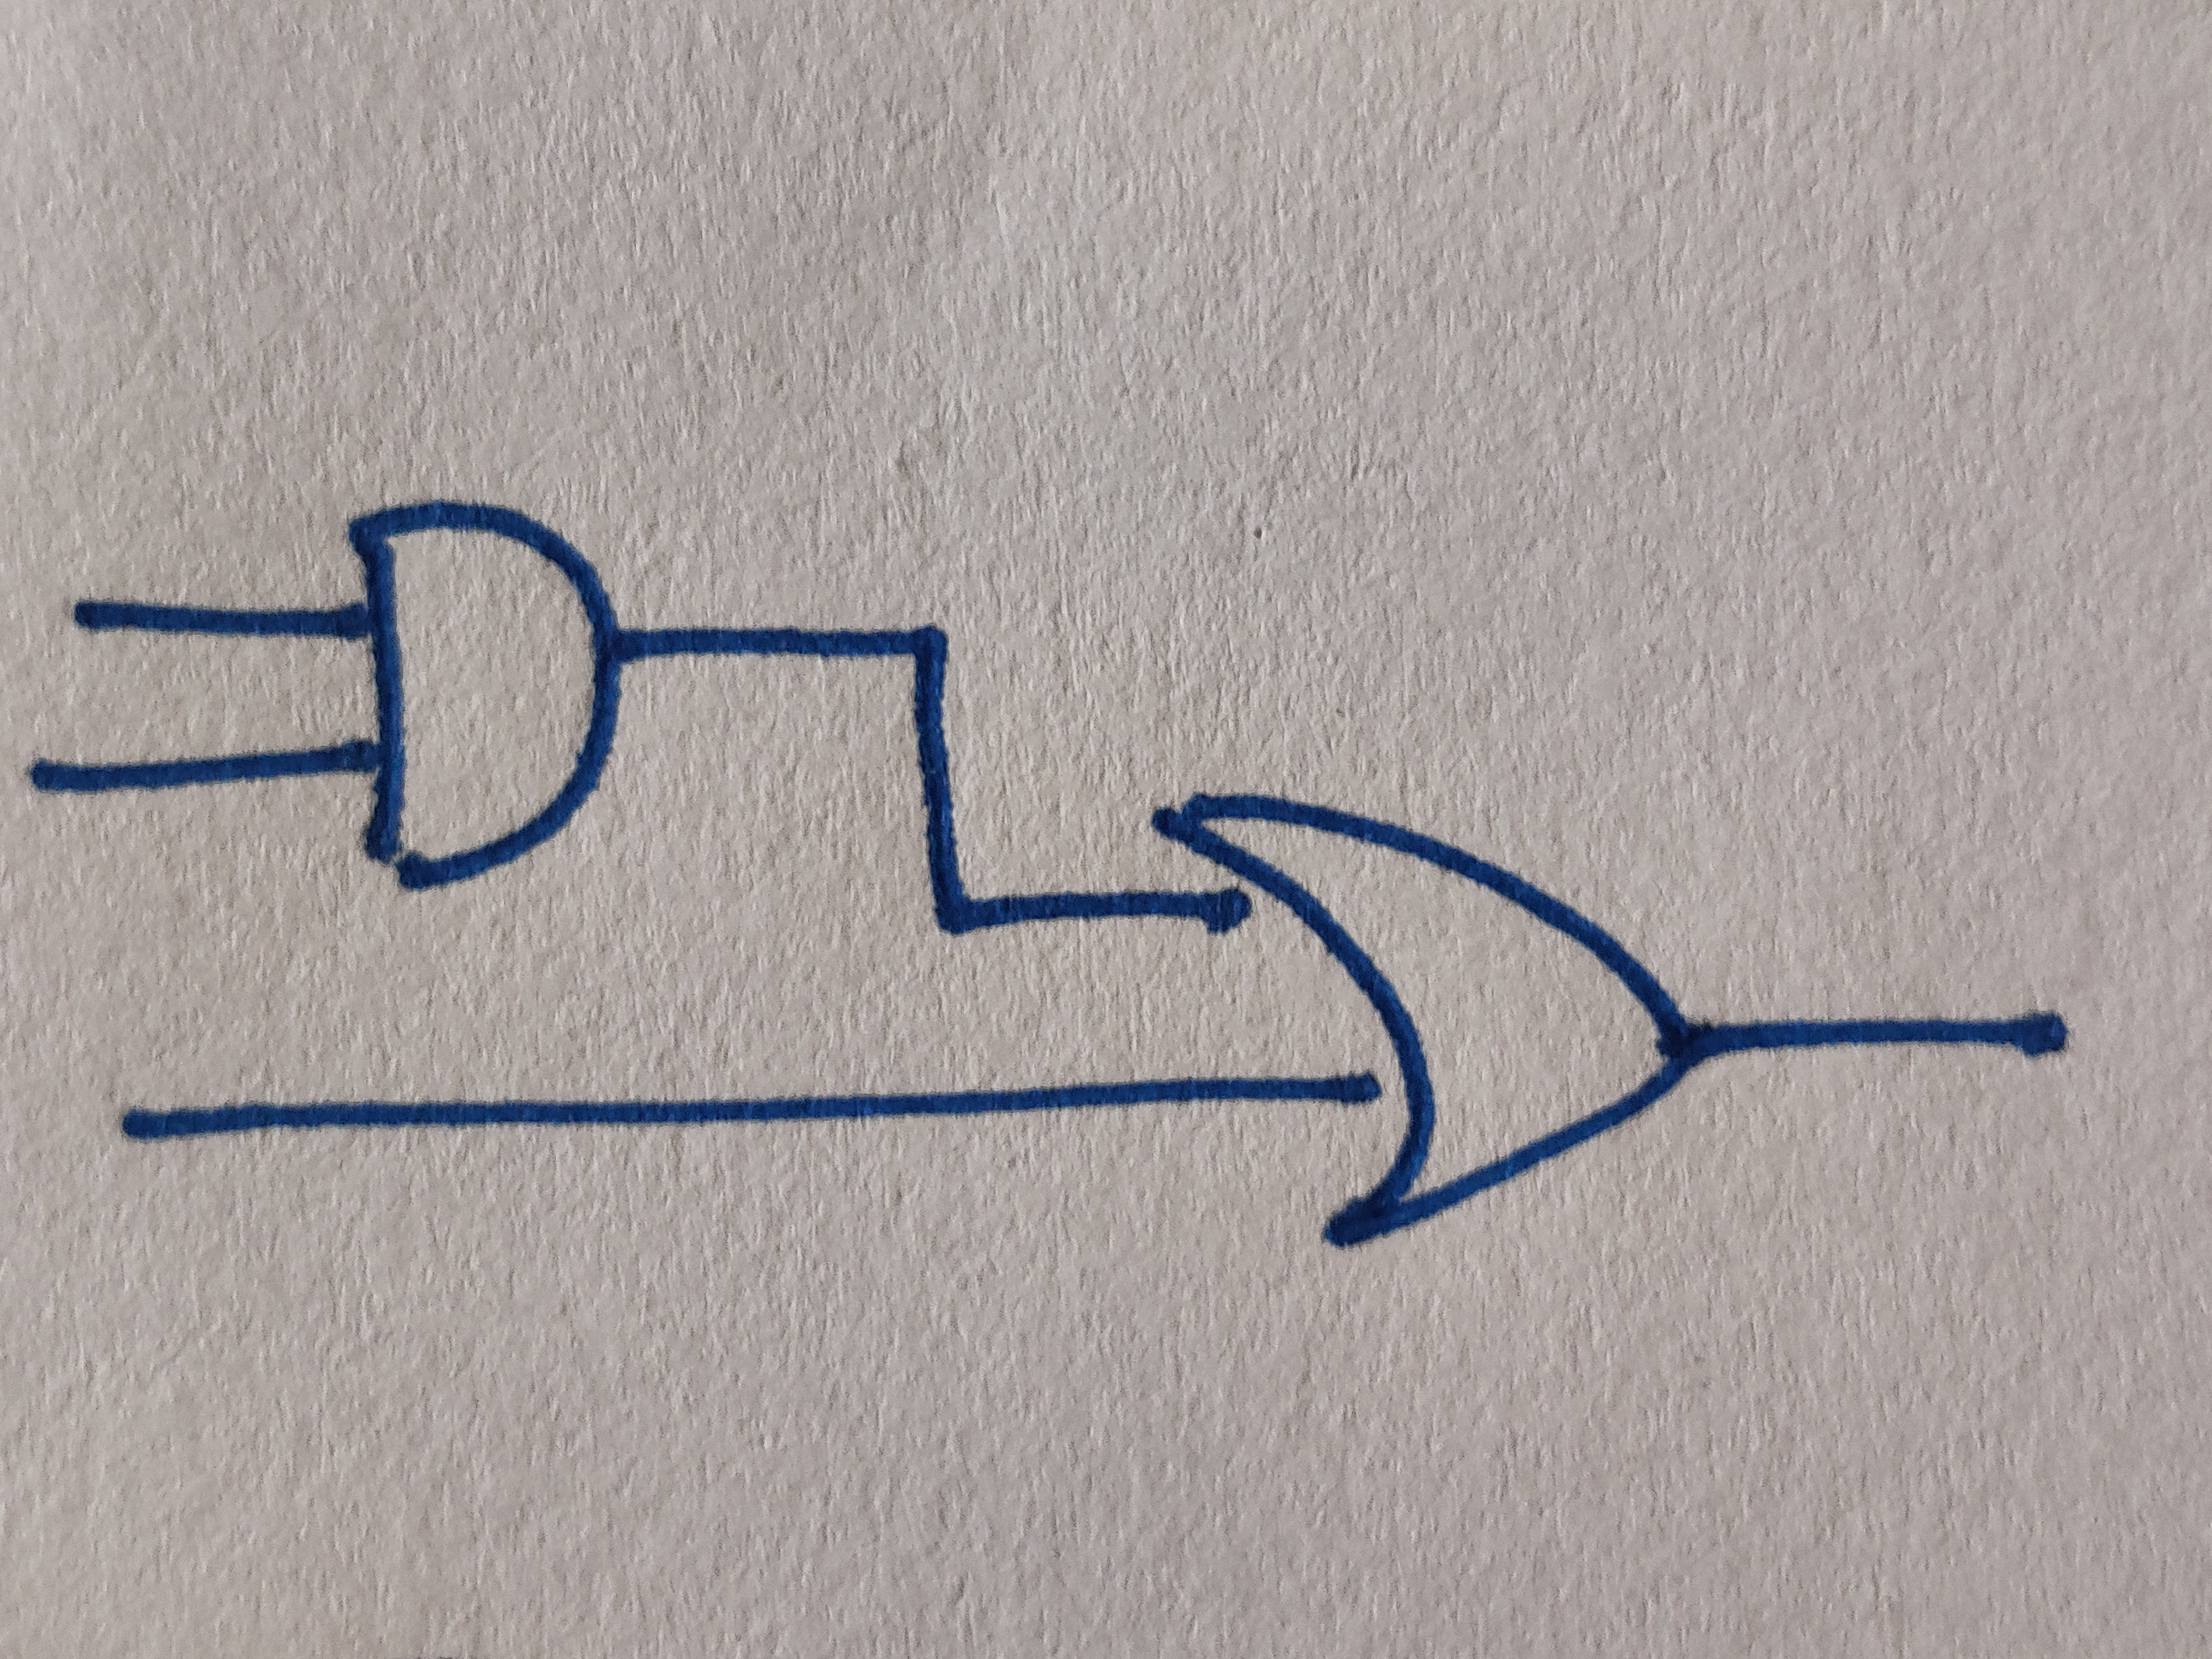and: (347, 504, 622, 894)
or: (1153, 791, 1689, 1249)
